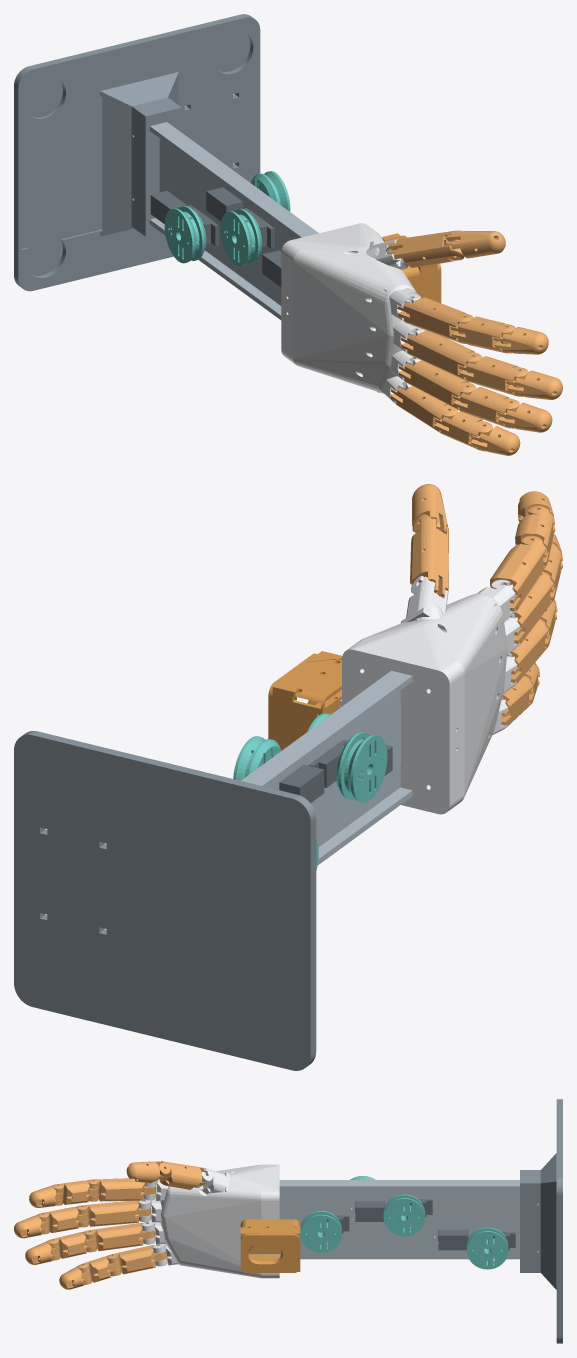
The model's file is robohand_assembly.glb.
3 renders of one model, top to bottom at view 1: azimuth 30°, elevation 25°; view 2: azimuth 150°, elevation 25°; view 3: azimuth 270°, elevation 25°, orthographic. The views are drawn at different scales.
Visible parts, largest first — view 1: stand, palm, spine, middle_proximal, spool_ring, spool_index, ring_proximal, thumb_proximal, index_proximal, middle_middle, little_proximal, ring_middle (+12 smaller); view 2: stand, palm, spine, palm_camera_cover, spool_index, thumb_proximal, index_proximal, middle_proximal, ring_proximal, spool_thumb, index_middle, servo_thumb (+3 smaller); view 3: spine, palm, stand, palm_camera_cover, spool_middle, spool_little, spool_thumb, middle_proximal, ring_proximal, index_proximal, little_proximal, thumb_proximal (+11 smaller).
Boxes of the visible parts, x1,y1,x2,y2 form: stand: [14, 14, 260, 291]; palm: [281, 223, 424, 404]; spine: [149, 122, 318, 319]; middle_proximal: [401, 330, 481, 382]; spool_ring: [164, 206, 206, 263]; spool_index: [220, 209, 262, 266]; ring_proximal: [398, 360, 475, 412]; thumb_proximal: [387, 230, 464, 267]; index_proximal: [397, 297, 473, 343]; middle_middle: [459, 356, 528, 396]; little_proximal: [390, 386, 457, 433]; ring_middle: [453, 387, 519, 428]; stand: [14, 731, 316, 1070]; palm: [334, 575, 520, 814]; spine: [241, 670, 412, 865]; palm_camera_cover: [268, 651, 342, 750]; spool_index: [336, 732, 387, 802]; thumb_proximal: [410, 514, 448, 597]; index_proximal: [490, 535, 546, 611]; middle_proximal: [514, 571, 553, 643]; ring_proximal: [510, 619, 548, 683]; spool_thumb: [233, 736, 281, 780]; index_middle: [515, 505, 553, 565]; servo_thumb: [279, 764, 324, 803]; spine: [279, 1180, 519, 1259]; palm: [138, 1164, 279, 1278]; stand: [520, 1099, 562, 1343]; palm_camera_cover: [240, 1219, 300, 1272]; spool_middle: [300, 1211, 341, 1252]; spool_little: [466, 1227, 508, 1269]; spool_thumb: [383, 1194, 425, 1236]; middle_proximal: [75, 1200, 150, 1227]; ring_proximal: [83, 1223, 154, 1252]; index_proximal: [87, 1178, 156, 1201]; little_proximal: [106, 1245, 166, 1276]; thumb_proximal: [155, 1161, 205, 1189].
Bounding box in the file's own units: 160 × 141 × 422.
